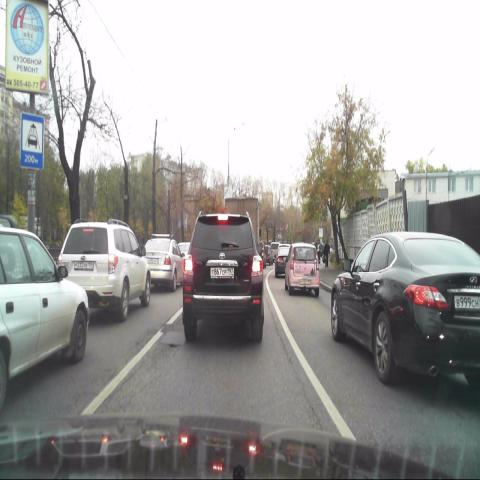7_5: (20, 113, 44, 169)
